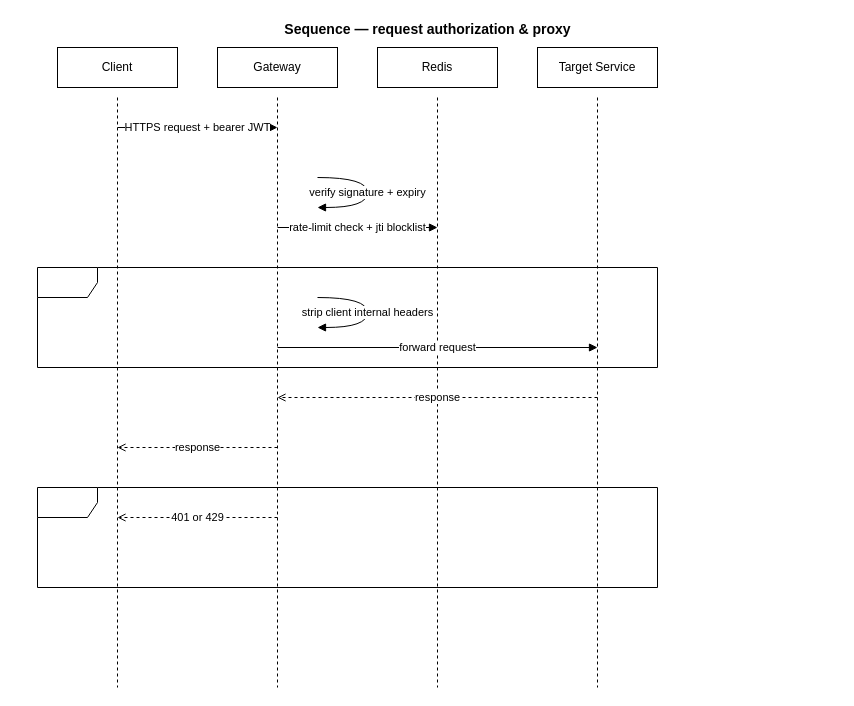
This 854x706 diagram has some shape labels left out. The shapes that lost their labels are listed below. From the top down, each one's box as (x1, y1, x2, y2) in pixels, then its label:
(36, 266, 658, 368): alt allowed
(36, 486, 658, 588): else blocked
